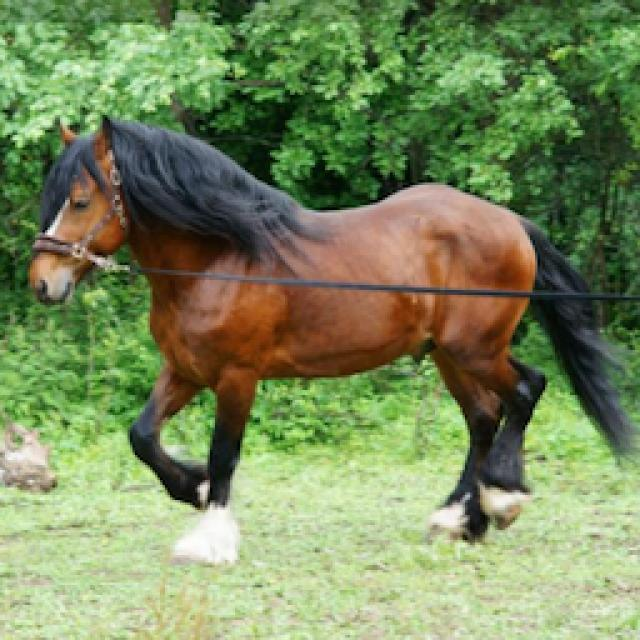Horse: (20, 105, 638, 570)
